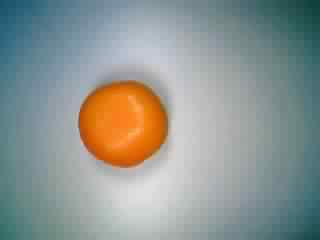orange: (77, 78, 168, 171)
